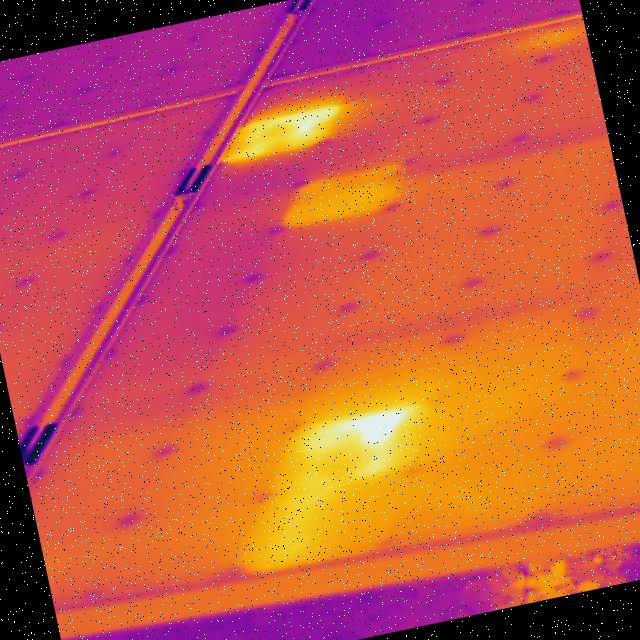Hotspot: (215, 382, 476, 596), (268, 152, 428, 240), (197, 88, 350, 177), (516, 19, 588, 56)
